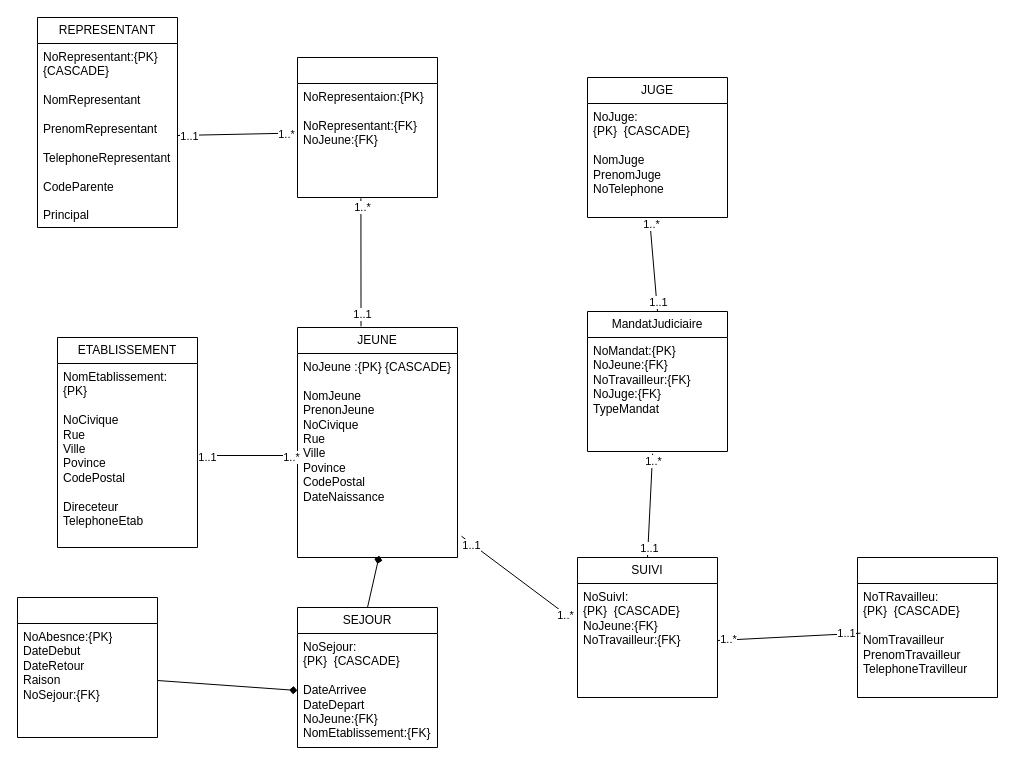
This 1015x768 diagram has some shape labels left out. Here are the shapes that lost their labels. From the top down, the box of each, then its label:
(296, 56, 438, 198): REPRESENTATION
(856, 556, 998, 698): TRAVAILLEUR_SOCIAL
(16, 596, 158, 738): ABSENCE
